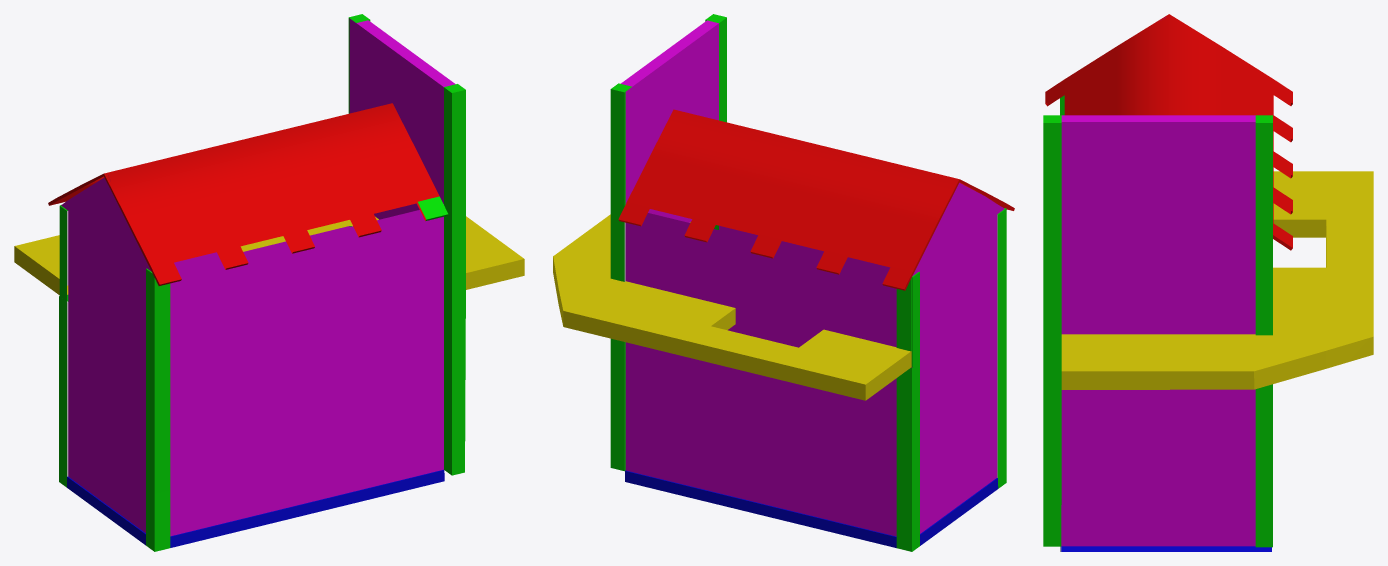
File: Hotel_main_body.fbx
3 renders of one model, left to right at view 1: azimuth 30°, elevation 25°; view 2: azimuth 150°, elevation 25°; view 3: azimuth 270°, elevation 25°, orthographic. The views are drawn at different scales.
Visible parts, largest first — view 1: Roof; view 2: Roof; view 3: Roof.
Boxes of the visible parts, x1,y1,x2,y2 form: Roof: [14, 14, 524, 551]; Roof: [553, 14, 1014, 551]; Roof: [1043, 14, 1373, 551].
Bounding box in the file's own units: 992 × 1002 × 687.
